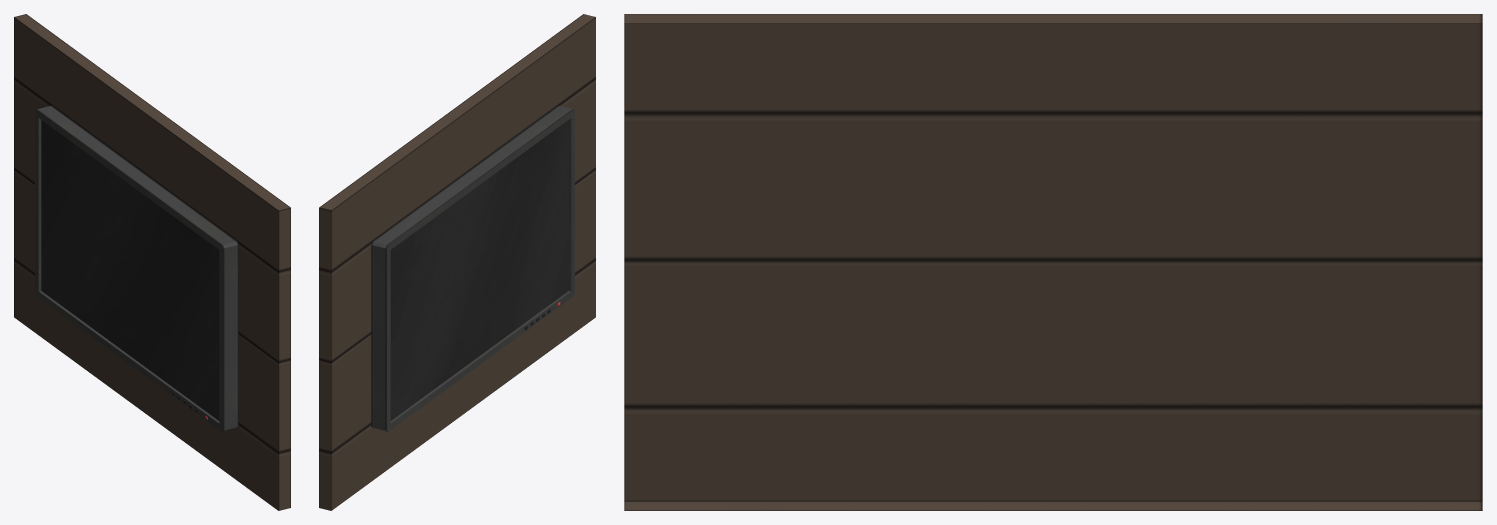
The model's file is tv_wall.fbx.
3 views of the same model, side by side, from view 1: azimuth 30°, elevation 25°; view 2: azimuth 150°, elevation 25°; view 3: azimuth 270°, elevation 25° (orthographic). The views are drawn at different scales.
Visible parts, largest first — view 1: polySurface1569; view 2: polySurface1569; view 3: polySurface1569.
Boxes of the visible parts, bbox=[...] form: polySurface1569: bbox=[14, 14, 290, 510]; polySurface1569: bbox=[319, 14, 595, 510]; polySurface1569: bbox=[624, 14, 1482, 510].
Bounding box in the file's own units: 0.1223 × 1.15 × 1.84.
